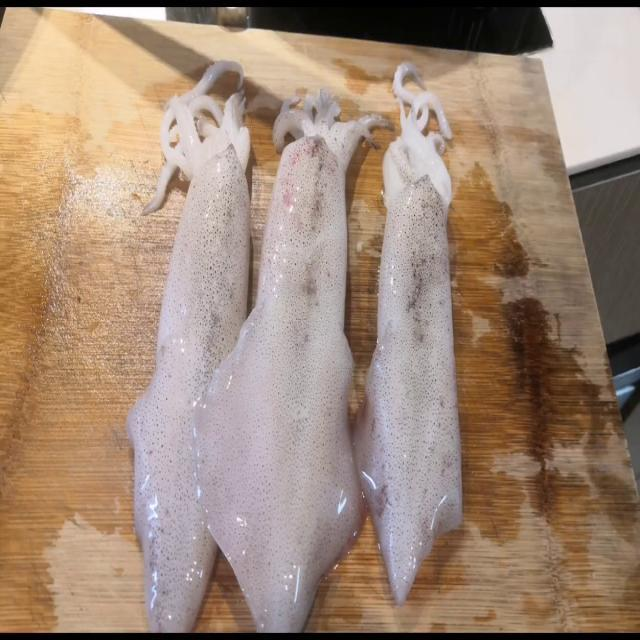squid: (246, 89, 391, 636), (126, 61, 252, 632), (350, 64, 463, 606)
